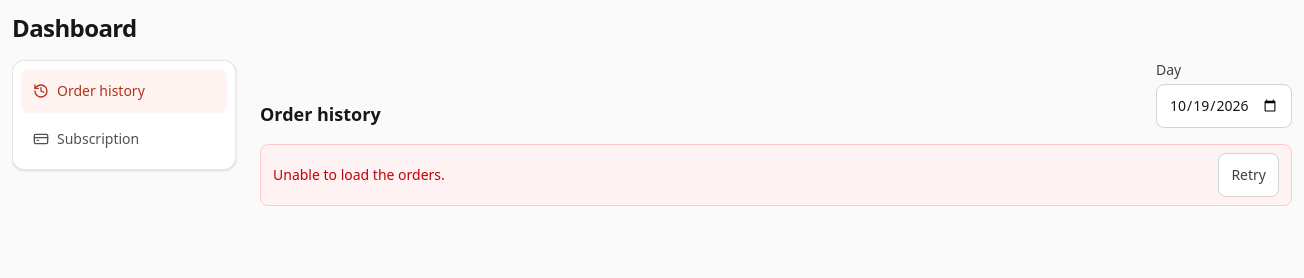
Test: Dashboard page › shows the error and reads the orders again on Retry
This screenshot has width=1304, height=278.
Expected: the message shows "Unable to load the orders", [273,165,445,184]
Click the button "Retry".
click(1249, 175)  # box [1218,153,1279,197]
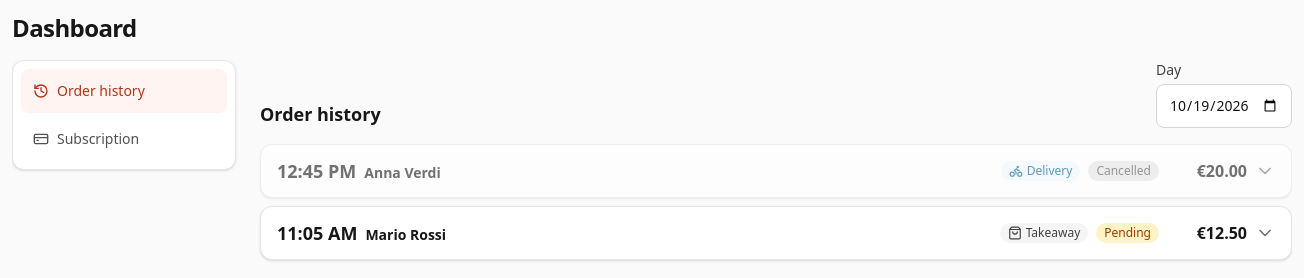
Expected: the message "Unable to load the orders. Retry" is gone
